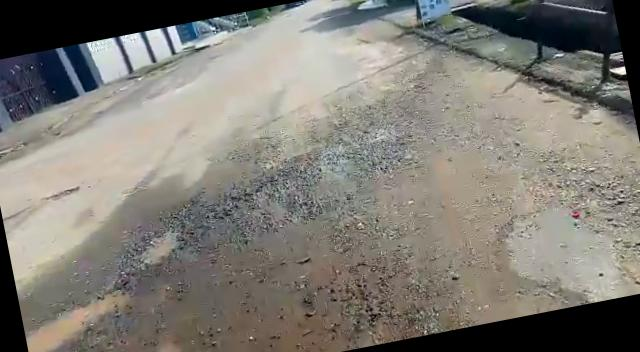pothole: (132, 224, 184, 268)
